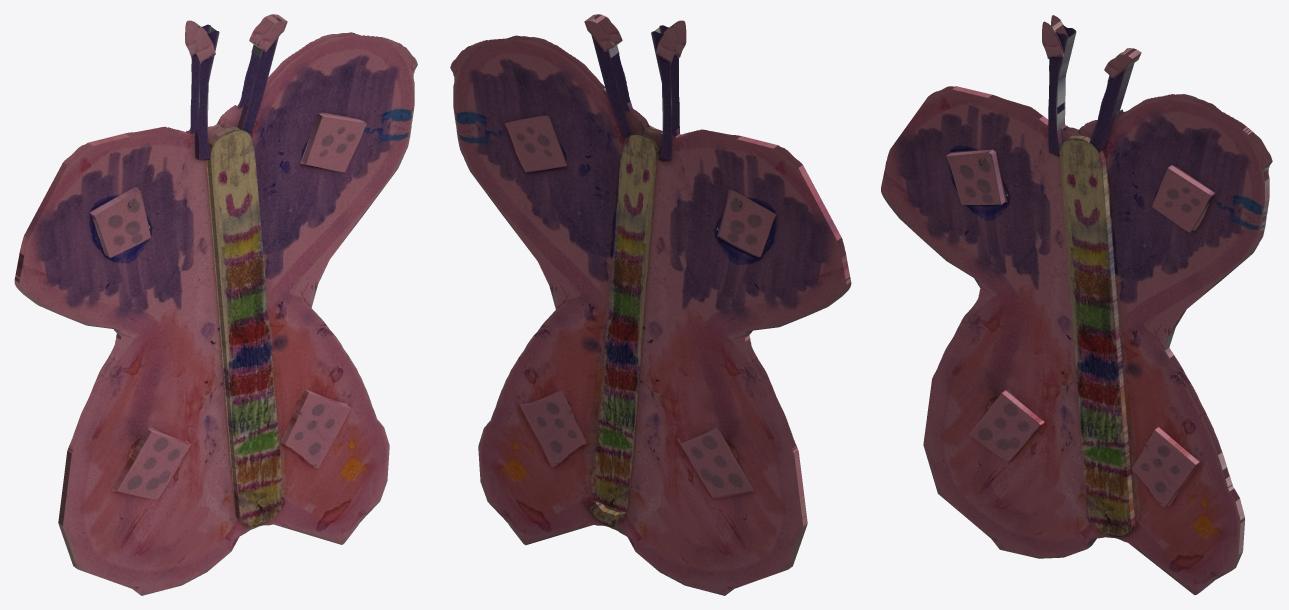
Rendered from personaje9.fbx.
3 views of the same model, side by side, from view 1: azimuth 30°, elevation 25°; view 2: azimuth 150°, elevation 25°; view 3: azimuth 330°, elevation 25° (orthographic). The views are drawn at different scales.
Parts seen in each view (by area): view 1: Plane; view 2: Plane; view 3: Plane.
Boxes of the visible parts, <box> form: Plane: <box>14,14,417,595</box>; Plane: <box>450,14,851,595</box>; Plane: <box>881,15,1272,595</box>.
Bounding box in the file's own units: 256 × 341 × 10.11.
Materials: 1 (1 with a texture image).
